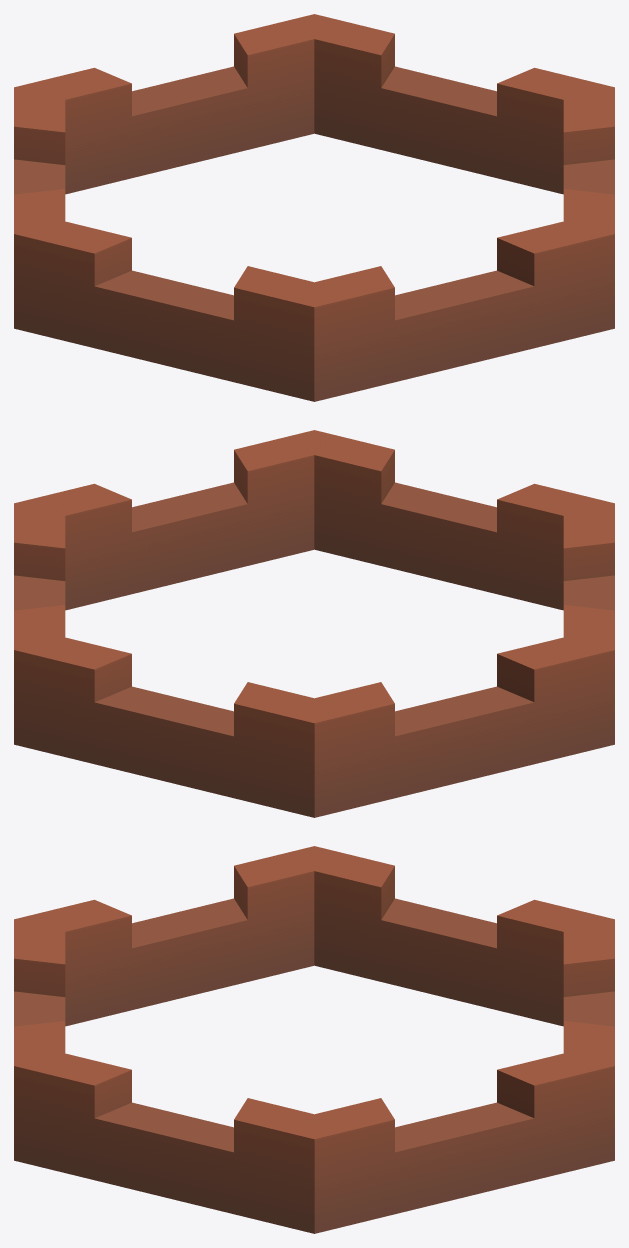
Rendered from tower-hexagon-top.glb.
The picture shows the model from 3 angles, top to bottom: view 1: azimuth 30°, elevation 25°; view 2: azimuth 150°, elevation 25°; view 3: azimuth 270°, elevation 25°; orthographic projection.
Visible parts, largest first — view 1: tower-hexagon-top; view 2: tower-hexagon-top; view 3: tower-hexagon-top.
Boxes of the visible parts, x1,y1,x2,y2 form: tower-hexagon-top: (14, 14, 614, 401); tower-hexagon-top: (14, 430, 614, 817); tower-hexagon-top: (14, 846, 614, 1233).
Size of the model in its own units: 2.59 by 0.39 by 2.24.
1 material, 1 textured.
